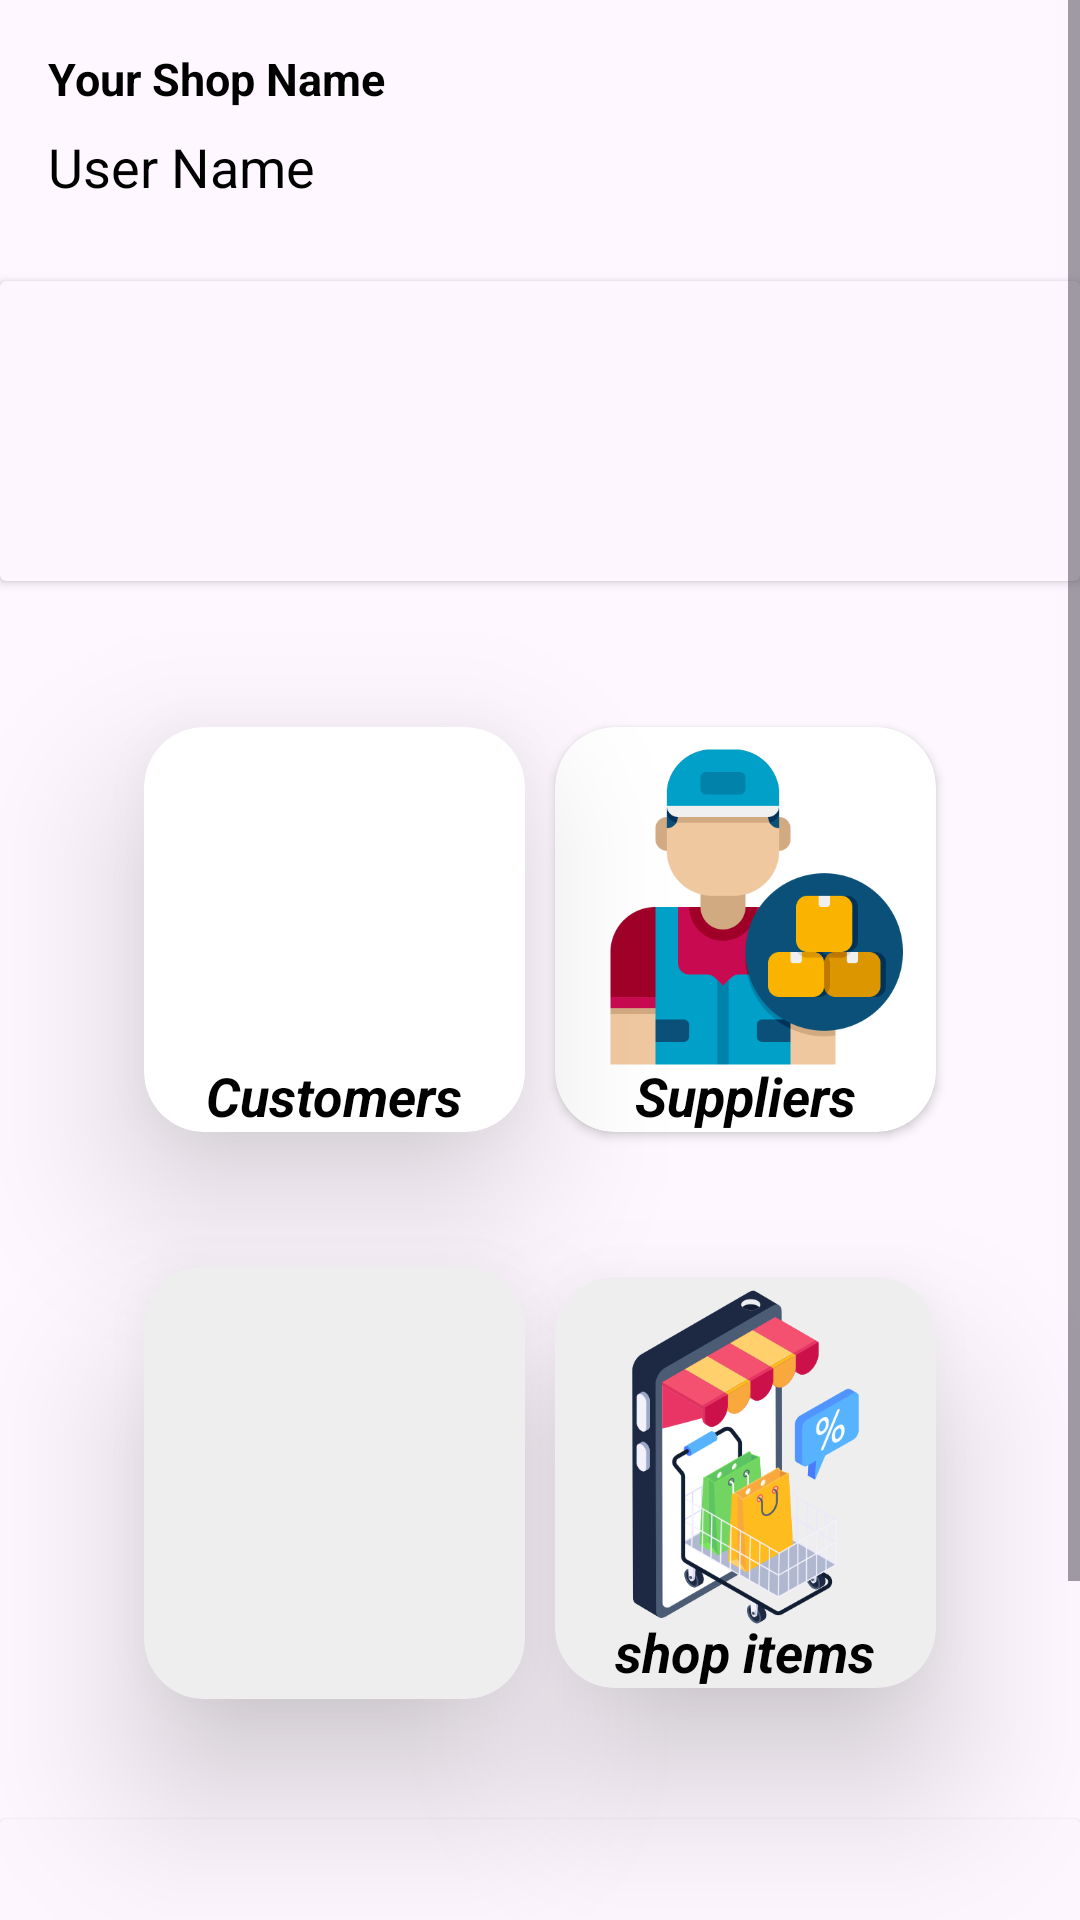

Icons on this 1080w x 1920h Android screen, each with its box as bbox=(x1, y1, x2, y2):
delivery: bbox=(555, 749, 903, 1085)
